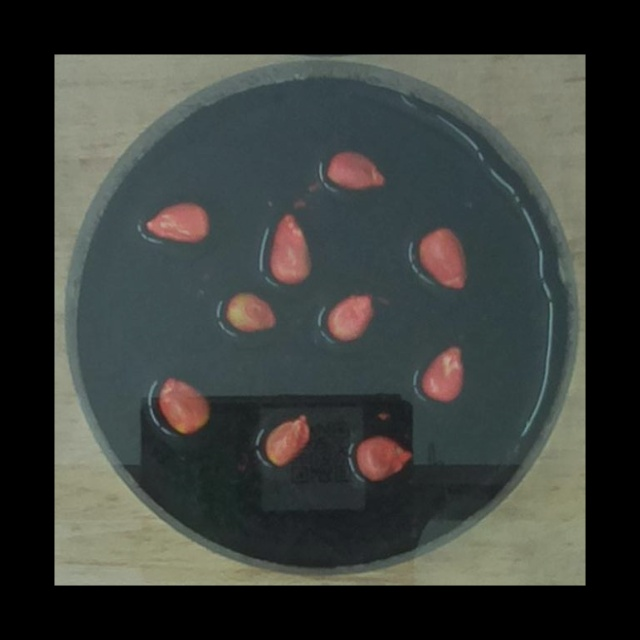Zea mays: (412, 220, 475, 295), (152, 372, 217, 441), (262, 207, 316, 290), (320, 282, 383, 348), (415, 336, 473, 407), (349, 428, 418, 487), (138, 194, 214, 247), (257, 405, 316, 472), (321, 144, 391, 197), (218, 285, 281, 338)
